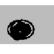correct: (6, 18, 36, 42)
